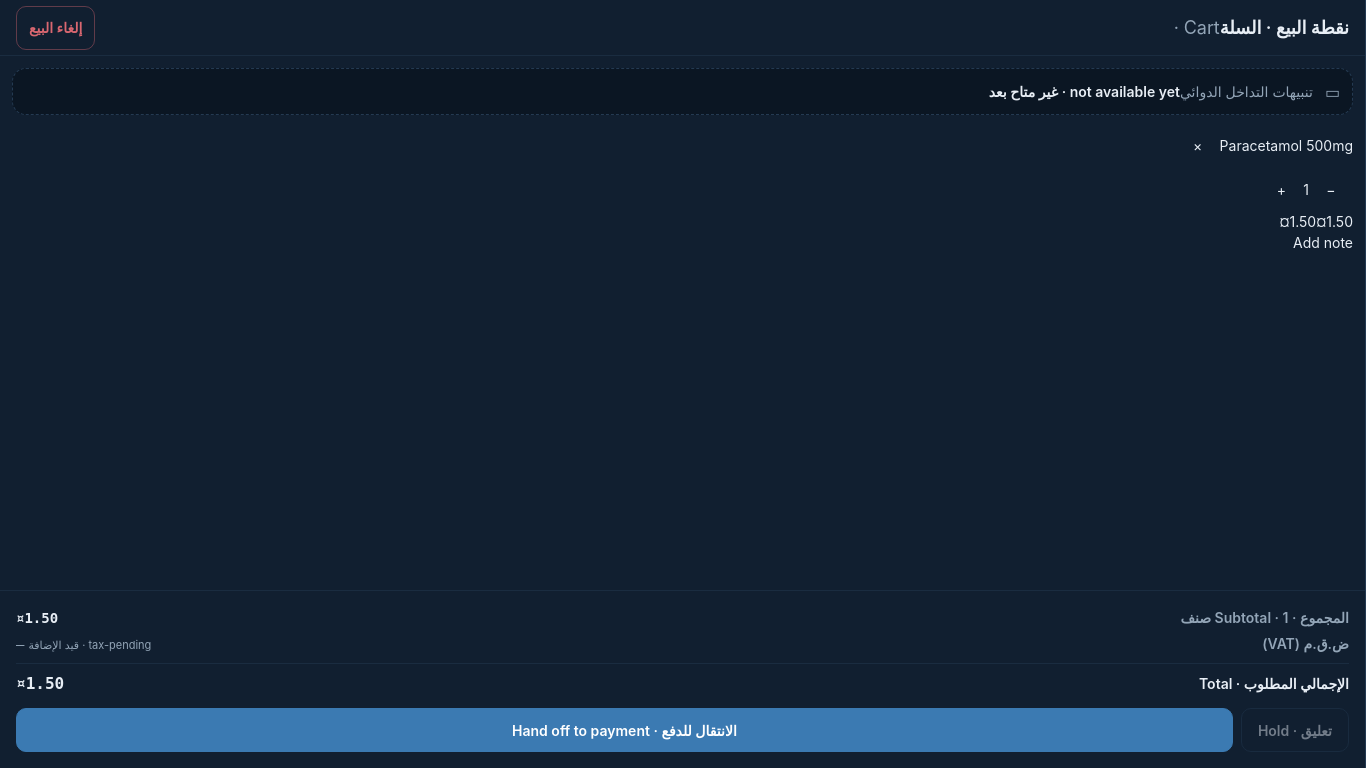
Test case: T052 — CartPane bridge: decrement line › removes the row when decrement ok response and qty was 1
The width and height of the screenshot is (1366, 768).
What coordinates should you click on to do the following:
click the button with test id "qty-decrement"
I would click on:
 (1331, 189)
Its box is top-left (1309, 167), bottom-right (1353, 211).
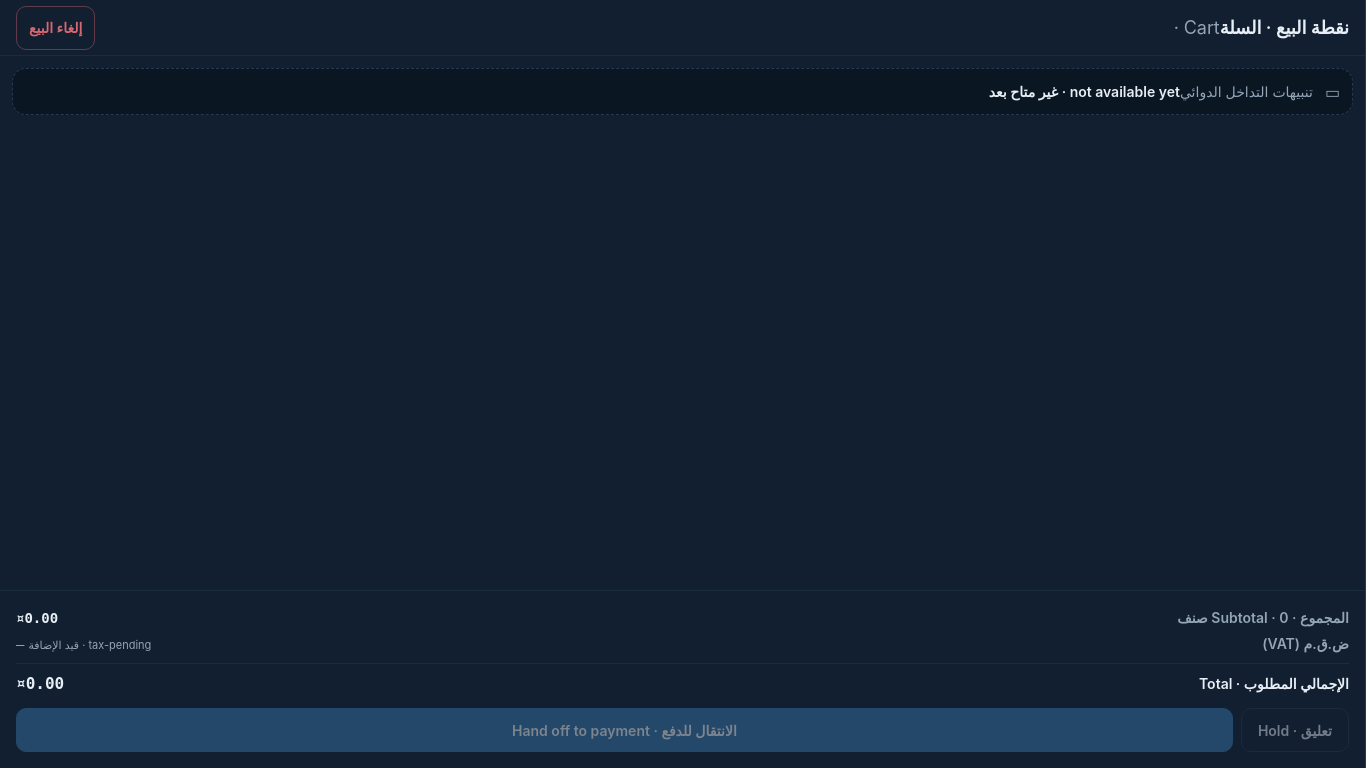
Expected: the element with test id "line-item-row" is gone
